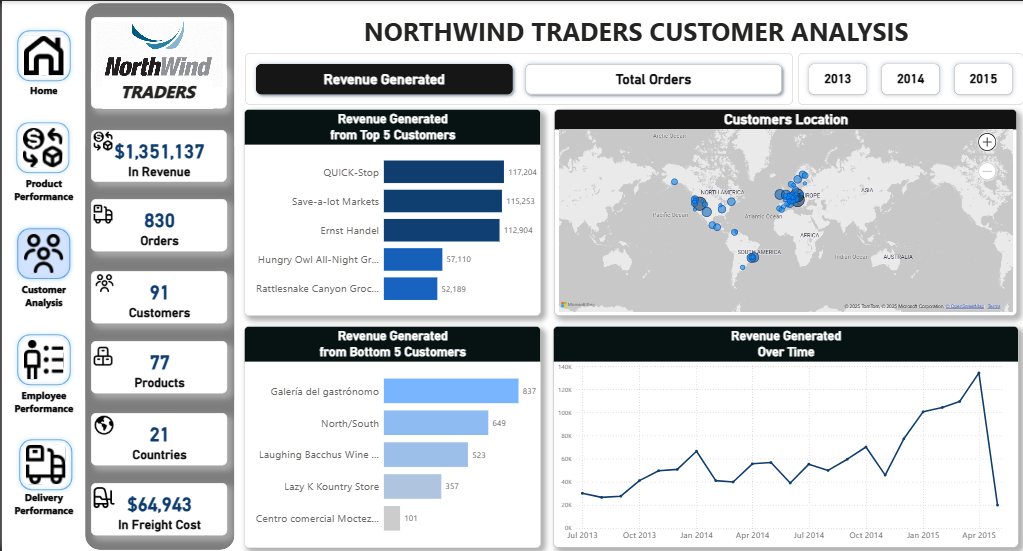

What the dashboard file says about the page in this screenshot:
{"tool":"powerbi","page":{"name":"Customer Analysis","canvas":[1950,1050],"ordinal":2},"visuals":[{"type":"shape","box":[154.1,0,291.4,1050],"z":0},{"type":"actionButton","box":[21.3,47.1,118.2,113.6],"z":0,"group":"g16"},{"type":"actionButton","box":[20.4,626.8,118.2,113.6],"z":0,"group":"g15"},{"type":"actionButton","box":[24.8,828.3,117.6,113.4],"z":0,"group":"g14"},{"type":"advancedSlicerVisual","fields":{"Values":["Metric Selection.Metric"]},"box":[463.1,98.7,1045.8,98.7],"z":1000},{"type":"actionButton","box":[19.5,223.4,117.8,113.4],"z":1000,"group":"g12"},{"type":"lineChart","fields":{"Category":["Orders.orderDate.Variation.Date Hierarchy.Year","Orders.orderDate.Variation.Date Hierarchy.Month"],"Y":["Metric Selection.Selected Measure"]},"box":[1053.7,620.2,888.6,422.7],"z":1000,"group":"g9"},{"type":"textbox","box":[471.5,18.9,1478.4,75.6],"z":2000},{"type":"actionButton","box":[20.4,425.3,117.4,112.9],"z":2000,"group":"g13"},{"type":"advancedSlicerVisual","fields":{"Values":["Orders.orderDate.Variation.Date Hierarchy.Year"]},"box":[1519.4,98.7,430.5,98.7],"z":3000},{"type":"shape","box":[169.9,124.3,259.3,81.4],"z":4000,"group":"g7"},{"type":"actionButton","box":[0,318.4,159.6,84],"z":4000,"group":"g12"},{"type":"group","id":"g1","title":"Group 6","box":[170.2,919.3,259.3,98.6],"z":4000},{"type":"actionButton","box":[0,520.2,160,85.1],"z":5000,"group":"g13"},{"type":"group","id":"g2","title":"Group 7","box":[169.9,782.7,260,103],"z":5000},{"type":"image","box":[170.6,31,259.3,141.1],"z":6000,"group":"g11"},{"type":"actionButton","box":[0,142.2,159.6,58.8],"z":6000,"group":"g16"},{"type":"card","title":"Total Revenue","fields":{"Values":["Sum(order_details.Revenue Generated)"]},"box":[170.2,246.6,259.3,98.6],"z":6000,"group":"g6"},{"type":"group","id":"g3","title":"Group 8","box":[169.9,649.2,260,100],"z":6000},{"type":"actionButton","box":[0,721.7,160,85.1],"z":6000,"group":"g15"},{"type":"actionButton","box":[0,917.7,160,85.1],"z":6000,"group":"g14"},{"type":"group","id":"g4","title":"Group 9","box":[169.9,512.4,260,103.2],"z":7000},{"type":"card","title":"Number of Countries","fields":{"Values":["Count(customers.country)"]},"box":[169.9,785.7,260,100],"z":7000,"group":"g2"},{"type":"textbox","box":[192.5,145.8,212,60.9],"z":8000,"group":"g11"},{"type":"group","id":"g5","title":"Group 10","box":[169.9,378.8,260,100],"z":8000},{"type":"group","id":"g6","title":"Group 11","box":[170.2,240.2,259.3,105],"z":9000},{"type":"card","title":"Number of Orders","fields":{"Values":["Count(order_details.orderID)"]},"box":[169.9,378.8,260,100],"z":9000,"group":"g5"},{"type":"group","id":"g7","title":"Group 14","box":[169.9,31,260,175.7],"z":10000},{"type":"group","id":"g8","title":"Group 5","box":[0,47.1,158.6,955.7],"z":11000},{"type":"card","title":"Number of Customers","fields":{"Values":["CountNonNull(customers.customerID)"]},"box":[169.9,515.6,260,100],"z":11000,"group":"g4"},{"type":"group","id":"g9","title":"Group 6","box":[462.9,205.7,1480.7,835.7],"z":12000},{"type":"clusteredBarChart","fields":{"Category":["customers.companyName"],"Y":["Metric Selection.Selected Measure"]},"box":[462.9,205.9,566.6,395.4],"z":12000,"group":"g9"},{"type":"image","box":[171.1,240.2,46.2,54.6],"z":14000,"group":"g6"},{"type":"image","box":[172.9,512.4,44.1,54.6],"z":15000,"group":"g4"},{"type":"clusteredBarChart","fields":{"Category":["customers.companyName"],"Y":["Metric Selection.Selected Measure"]},"box":[462.9,619.3,566.6,423.7],"z":16000,"group":"g9"},{"type":"image","box":[171.8,782.7,46.2,54.6],"z":16000,"group":"g2"},{"type":"card","title":"Number of Products","fields":{"Values":["CountNonNull(products.productID)"]},"box":[169.9,649.2,260,100],"z":17000,"group":"g3"},{"type":"image","box":[170.8,379.8,46.2,54.6],"z":18000,"group":"g5"},{"type":"card","title":"Total Freight Cost","fields":{"Values":["Sum(Orders.freight)"]},"box":[170.2,919.3,260,100],"z":19000,"group":"g1"},{"type":"image","box":[170.8,650.2,46.2,54.6],"z":20000,"group":"g3"},{"type":"group","id":"g10","title":"Group 13","box":[170.6,31,259.3,175.7],"z":21000,"group":"g7"},{"type":"map","title":"Customers Location","fields":{"Size":["Metric Selection.Selected Measure"],"Category":["customers.country","customers.city"]},"box":[1054.6,205.7,884.5,395.4],"z":22000,"group":"g9"},{"type":"group","id":"g11","title":"Group 12","box":[170.6,31,259.3,175.7],"z":22006,"group":"g10"},{"type":"group","id":"g12","title":"Group 1","box":[0,223.4,159.6,179],"z":24000,"group":"g8"},{"type":"image","box":[171.1,920.3,50.4,52.5],"z":24000,"group":"g1"},{"type":"group","id":"g13","title":"Group 2","box":[0,425.3,159.6,178.5],"z":25000,"group":"g8"},{"type":"group","id":"g14","title":"Group 4","box":[0,828.3,159.6,174.3],"z":26000,"group":"g8"},{"type":"group","id":"g15","title":"Group 3","box":[0,626.8,159.6,178.5],"z":27000,"group":"g8"},{"type":"group","id":"g16","title":"Group 4","box":[0,47.1,159.6,153.3],"z":28000,"group":"g8"}]}

Visuals, with their boxes in screenshot pixels (x1, y1, x2, y2), scaled from the page's 1950x1050 canvas onto the 1023x551 screenshot:
shape: left=81, top=0, right=234, bottom=550
actionButton: left=11, top=25, right=73, bottom=84
actionButton: left=11, top=329, right=73, bottom=389
actionButton: left=13, top=435, right=75, bottom=494
advancedSlicerVisual - Metric Selection.Metric: left=243, top=52, right=792, bottom=104
actionButton: left=10, top=117, right=72, bottom=177
lineChart - Orders.orderDate.Variation.Date Hierarchy.Year x Orders.orderDate.Variation.Date Hierarchy.Month: left=553, top=325, right=1019, bottom=547
textbox: left=247, top=10, right=1022, bottom=50
actionButton: left=11, top=223, right=72, bottom=282
advancedSlicerVisual - Orders.orderDate.Variation.Date Hierarchy.Year: left=797, top=52, right=1022, bottom=104
shape: left=89, top=65, right=225, bottom=108
actionButton: left=0, top=167, right=84, bottom=211
"Group 6" group: left=89, top=482, right=225, bottom=534
actionButton: left=0, top=273, right=84, bottom=318
"Group 7" group: left=89, top=411, right=226, bottom=465
image: left=89, top=16, right=226, bottom=90
actionButton: left=0, top=75, right=84, bottom=105
"Total Revenue" card: left=89, top=129, right=225, bottom=181
"Group 8" group: left=89, top=341, right=226, bottom=393
actionButton: left=0, top=379, right=84, bottom=423
actionButton: left=0, top=482, right=84, bottom=526
"Group 9" group: left=89, top=269, right=226, bottom=323
"Number of Countries" card: left=89, top=412, right=226, bottom=465
textbox: left=101, top=77, right=212, bottom=108
"Group 10" group: left=89, top=199, right=226, bottom=251
"Group 11" group: left=89, top=126, right=225, bottom=181
"Number of Orders" card: left=89, top=199, right=226, bottom=251
"Group 14" group: left=89, top=16, right=226, bottom=108
"Group 5" group: left=0, top=25, right=83, bottom=526
"Number of Customers" card: left=89, top=271, right=226, bottom=323
"Group 6" group: left=243, top=108, right=1020, bottom=546
clusteredBarChart - customers.companyName x Metric Selection.Selected Measure: left=243, top=108, right=540, bottom=316
image: left=90, top=126, right=114, bottom=155
image: left=91, top=269, right=114, bottom=298
clusteredBarChart - customers.companyName x Metric Selection.Selected Measure: left=243, top=325, right=540, bottom=547
image: left=90, top=411, right=114, bottom=439
"Number of Products" card: left=89, top=341, right=226, bottom=393
image: left=90, top=199, right=114, bottom=228
"Total Freight Cost" card: left=89, top=482, right=226, bottom=535
image: left=90, top=341, right=114, bottom=370
"Group 13" group: left=89, top=16, right=226, bottom=108
"Customers Location" map: left=553, top=108, right=1017, bottom=315
"Group 12" group: left=89, top=16, right=226, bottom=108
"Group 1" group: left=0, top=117, right=84, bottom=211
image: left=90, top=483, right=116, bottom=510
"Group 2" group: left=0, top=223, right=84, bottom=317
"Group 4" group: left=0, top=435, right=84, bottom=526
"Group 3" group: left=0, top=329, right=84, bottom=423
"Group 4" group: left=0, top=25, right=84, bottom=105
